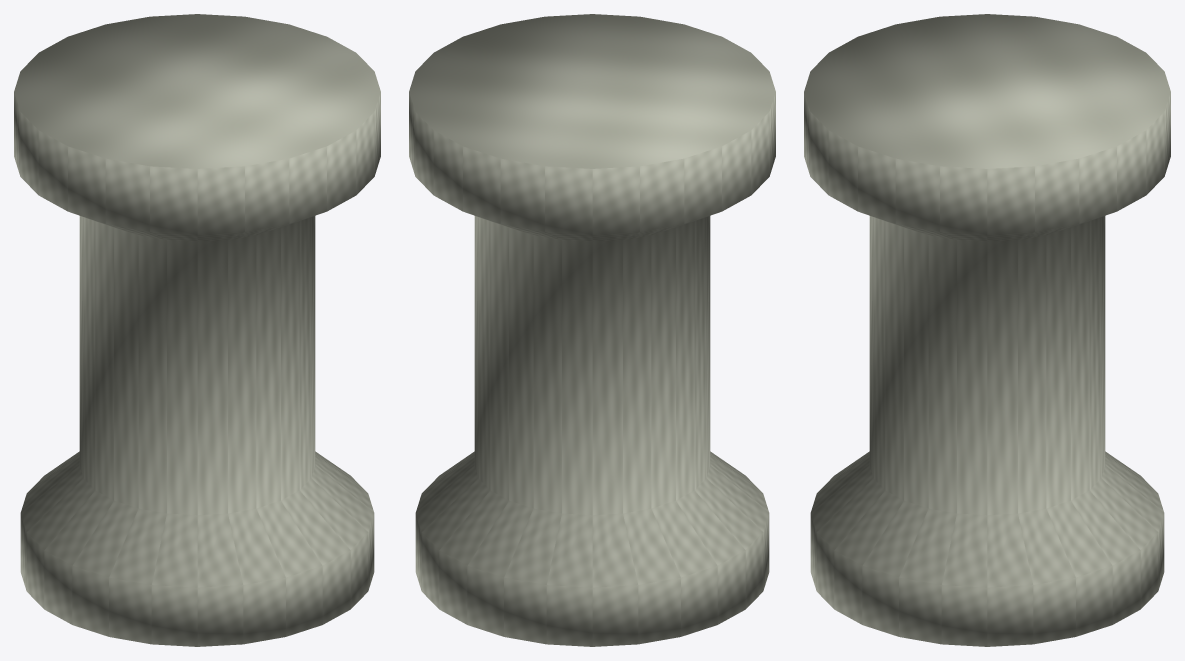
File: harbor_bollard.glb
3 renders of one model, left to right at view 1: azimuth 30°, elevation 25°; view 2: azimuth 150°, elevation 25°; view 3: azimuth 270°, elevation 25°, orthographic.
Visible parts, largest first — view 1: harbor_bollard_Structure; view 2: harbor_bollard_Structure; view 3: harbor_bollard_Structure.
Part boxes in pixels (box(x1,y1,x2,y2)): harbor_bollard_Structure: box(14, 14, 380, 646); harbor_bollard_Structure: box(409, 14, 775, 646); harbor_bollard_Structure: box(804, 14, 1170, 646).
Bounding box in the file's own units: 0.56 × 0.81 × 0.56.
1 material, 1 textured.
